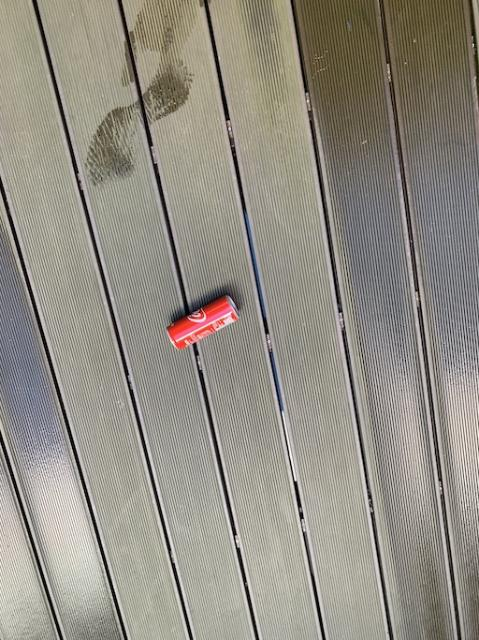metal: (169, 295, 237, 349)
